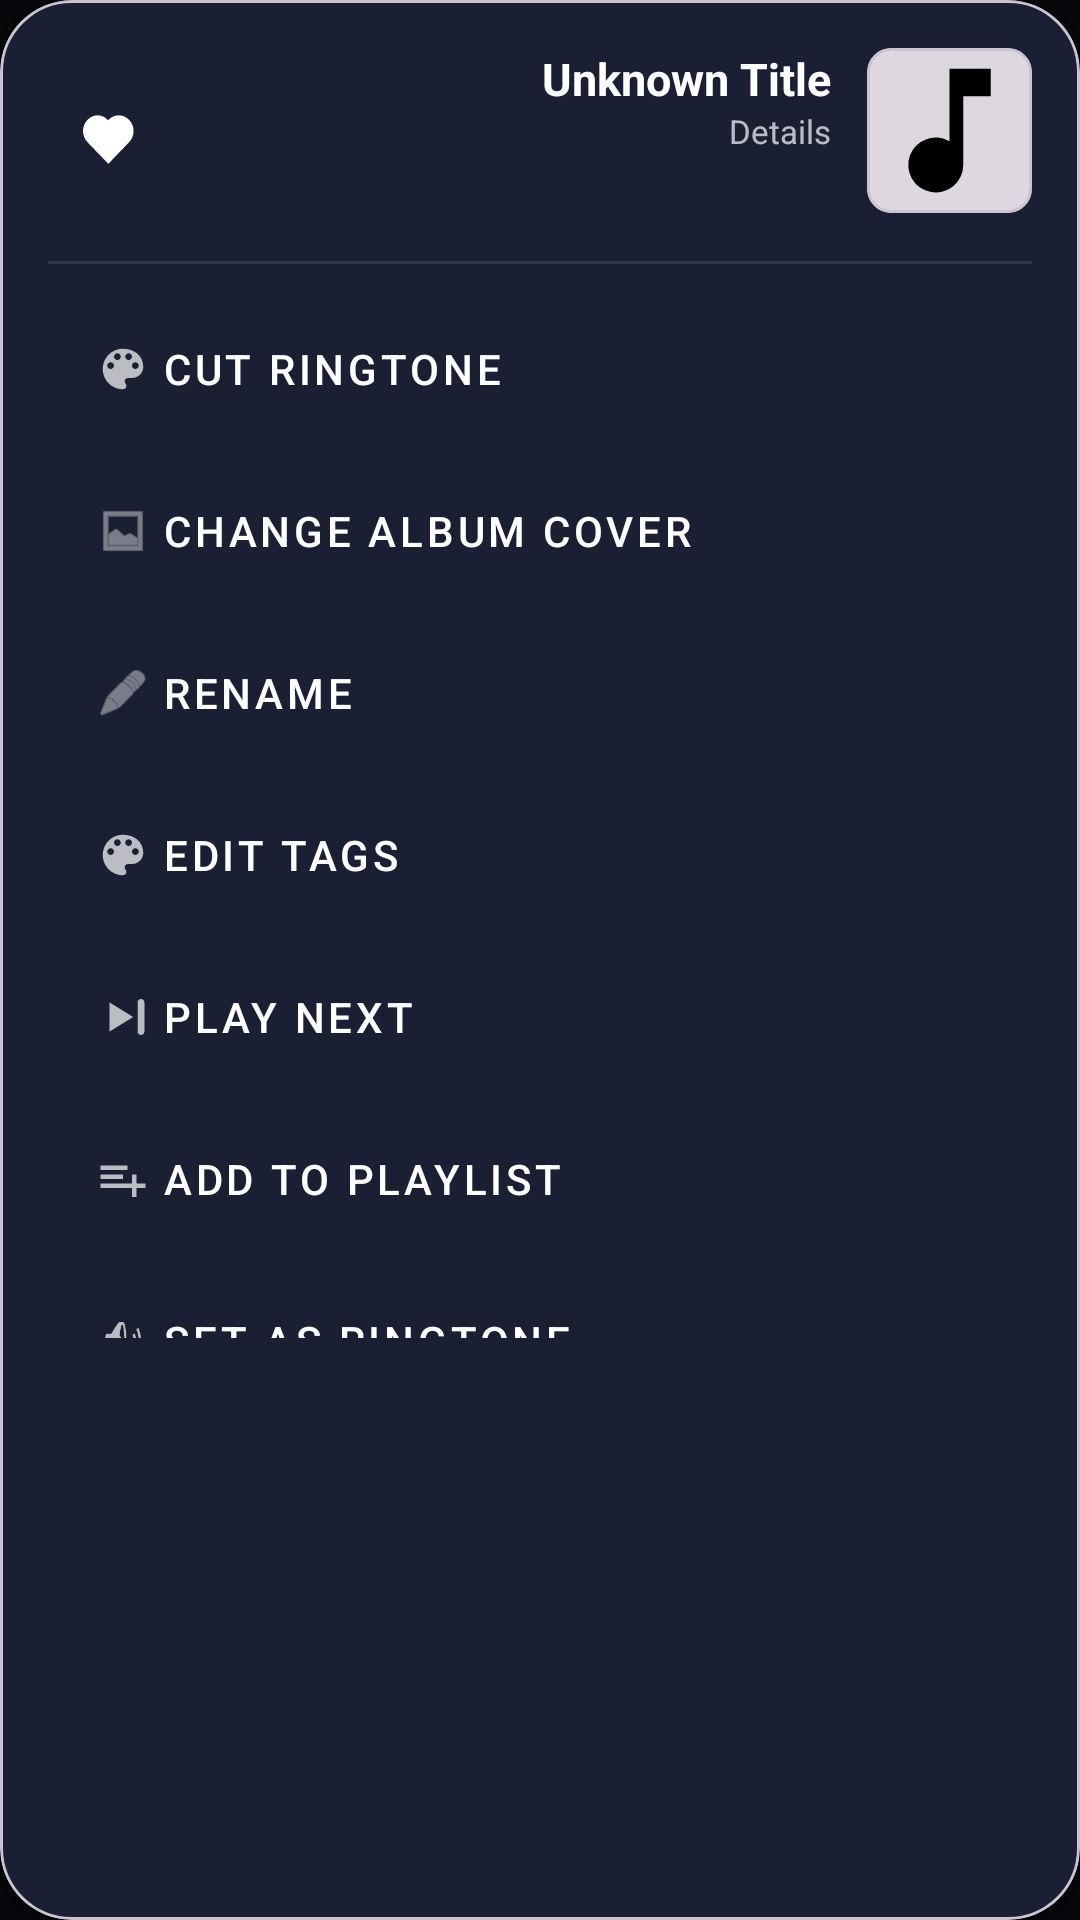

Point at icon controls on the screen. Image size 1080px x 1920px, points as point (x, y).
music note: point (949, 130)
